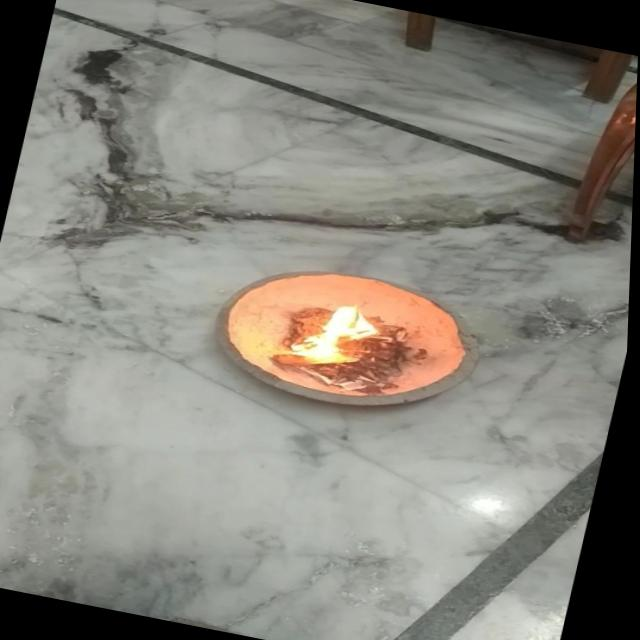fire: (270, 288, 397, 379)
